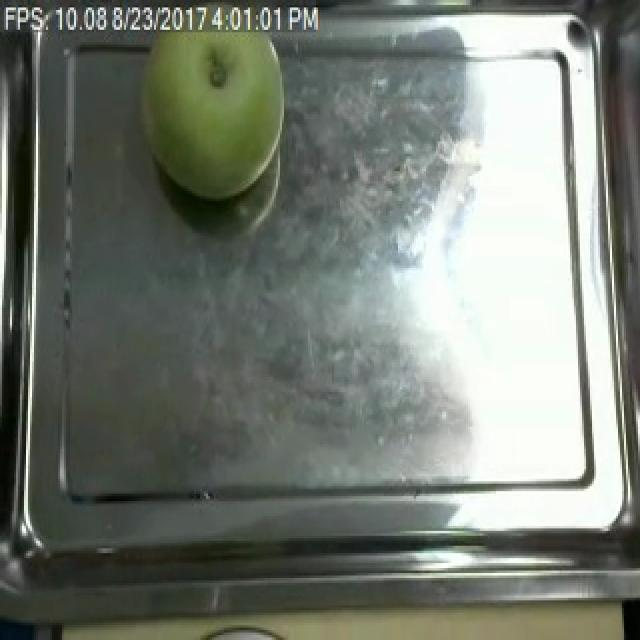50-_ripeness: (136, 17, 298, 190)
